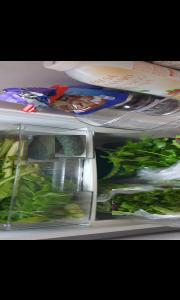Lechuga/Endivia: (112, 188, 180, 214)
Pepino: (28, 134, 59, 161), (55, 134, 86, 156)
